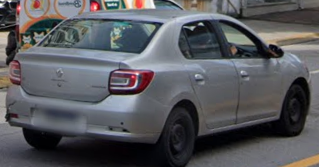car: (6, 9, 311, 165)
